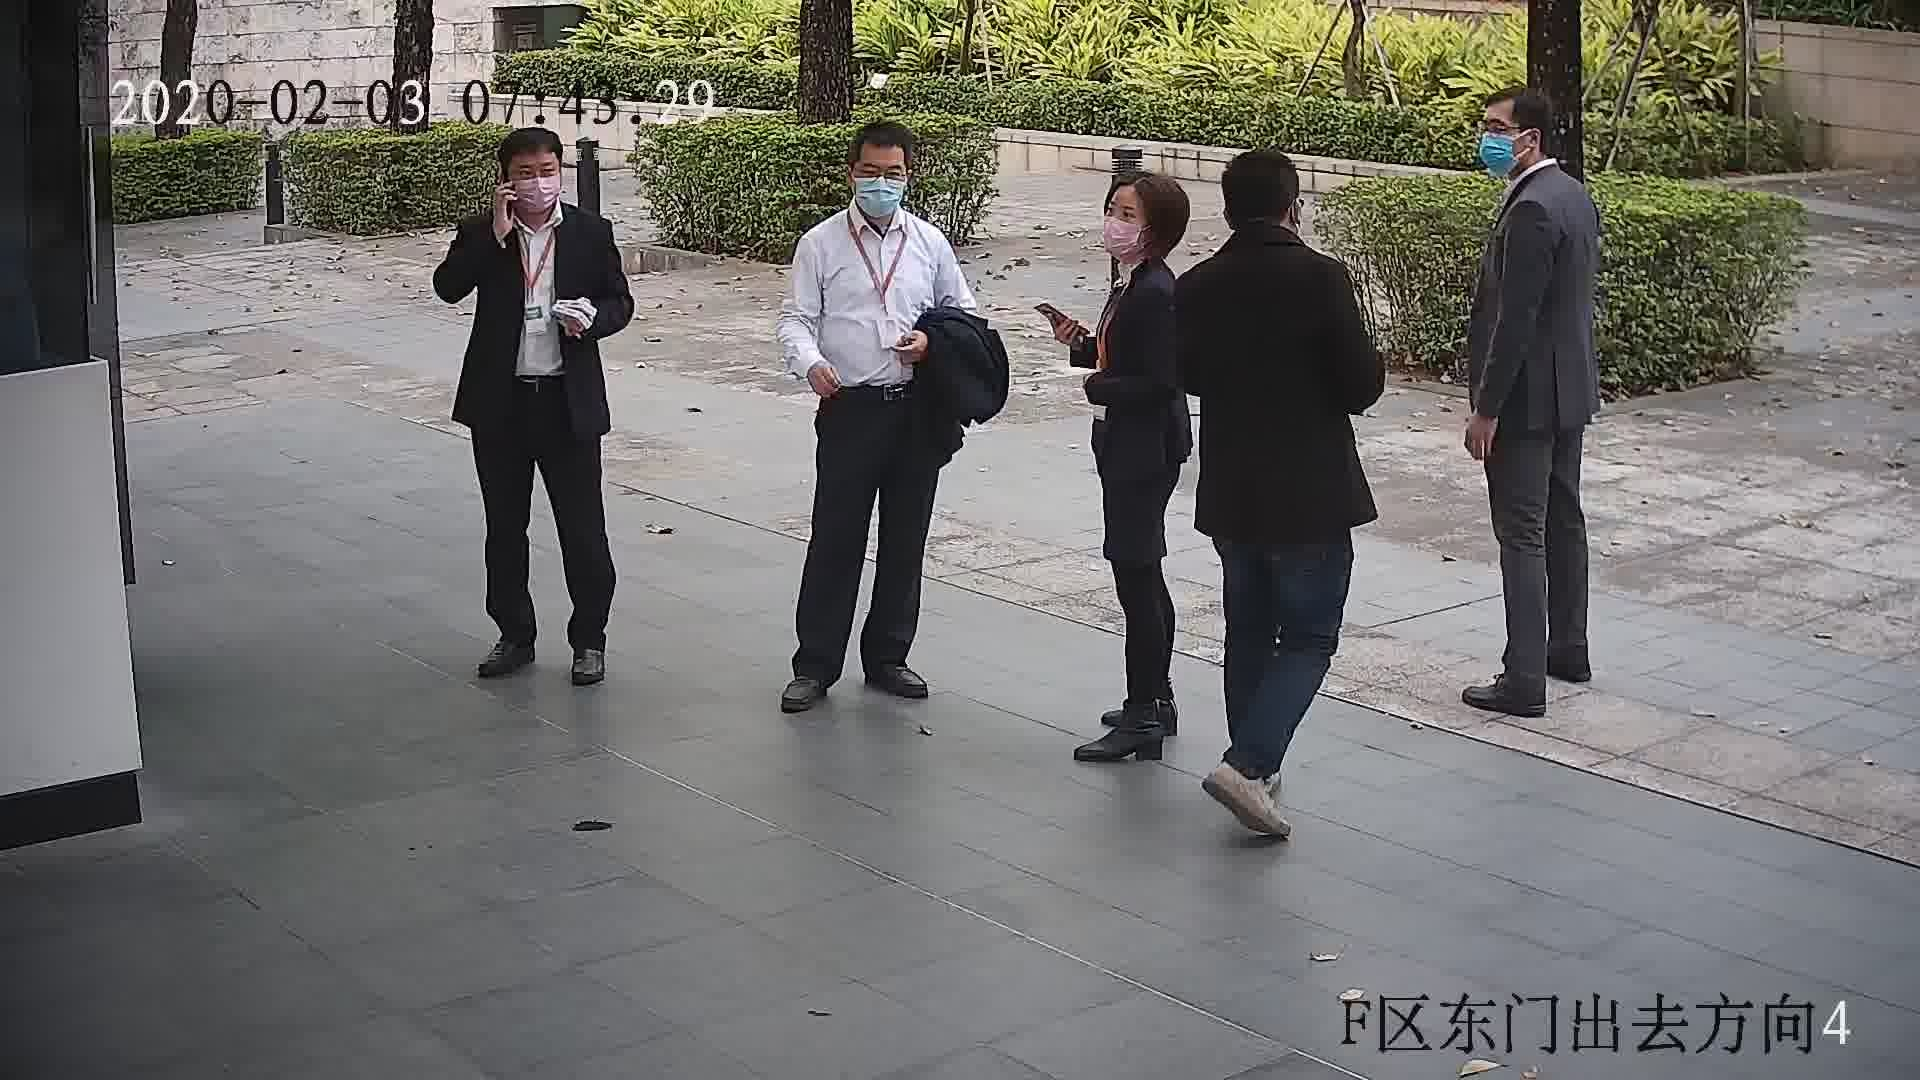face: (853, 139, 908, 220), (498, 148, 566, 215), (1101, 184, 1151, 265), (1477, 98, 1528, 174)
mask: (850, 175, 908, 220), (1099, 212, 1140, 261), (1477, 129, 1518, 177), (511, 175, 562, 210)
person: (1184, 150, 1345, 300), (796, 117, 951, 268), (456, 125, 614, 257), (1483, 85, 1598, 225), (1093, 170, 1193, 301)
